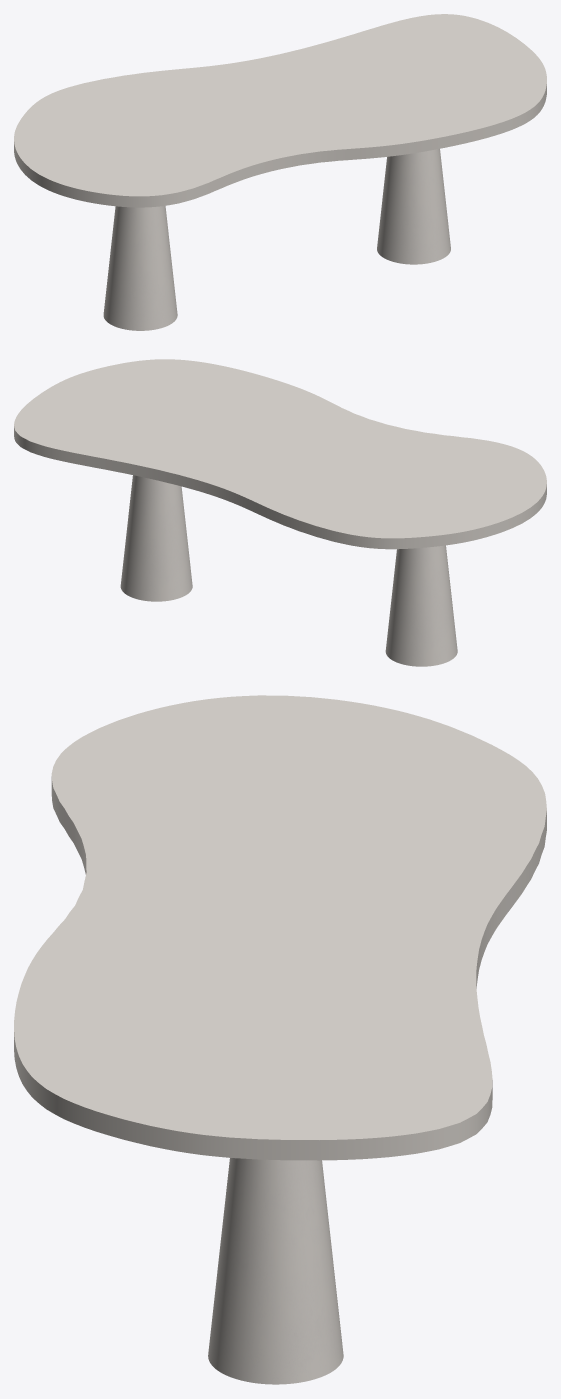
Rendered from pearlwhite_wave_standard_pebble.glb.
3 renders of one model, top to bottom at view 1: azimuth 30°, elevation 25°; view 2: azimuth 150°, elevation 25°; view 3: azimuth 270°, elevation 25°, orthographic. The views are drawn at different scales.
Visible parts, largest first — view 1: standard_wave, pebble; view 2: standard_wave, pebble; view 3: standard_wave, pebble.
Boxes of the visible parts, x1,y1,x2,y2 form: standard_wave: (14, 14, 546, 207); pebble: (103, 149, 450, 330); standard_wave: (14, 359, 546, 549); pebble: (120, 475, 457, 666); standard_wave: (14, 695, 546, 1160); pebble: (208, 1158, 343, 1384).
Bounding box in the file's own units: 7.5 × 2.5 × 3.8.
Materials: 1 (1 with a texture image).
